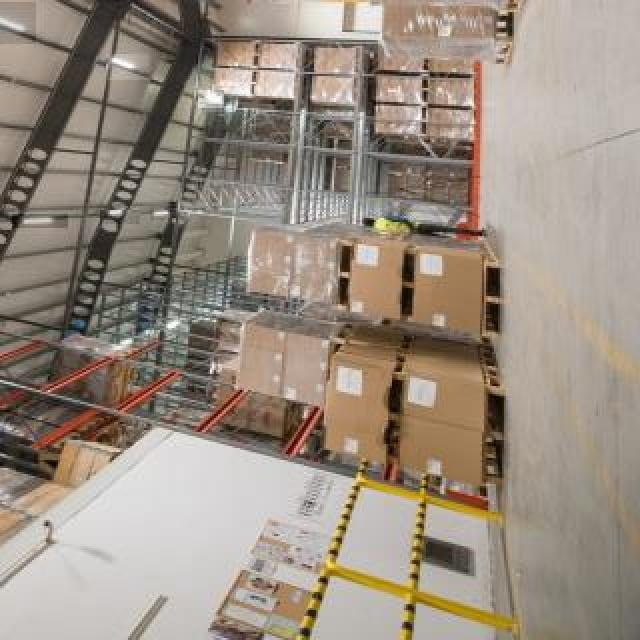fluorescent tube: (8, 207, 68, 240), (0, 4, 38, 42), (96, 49, 151, 75)
